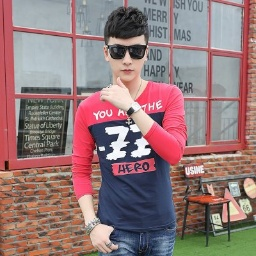face: (103, 5, 149, 82)
